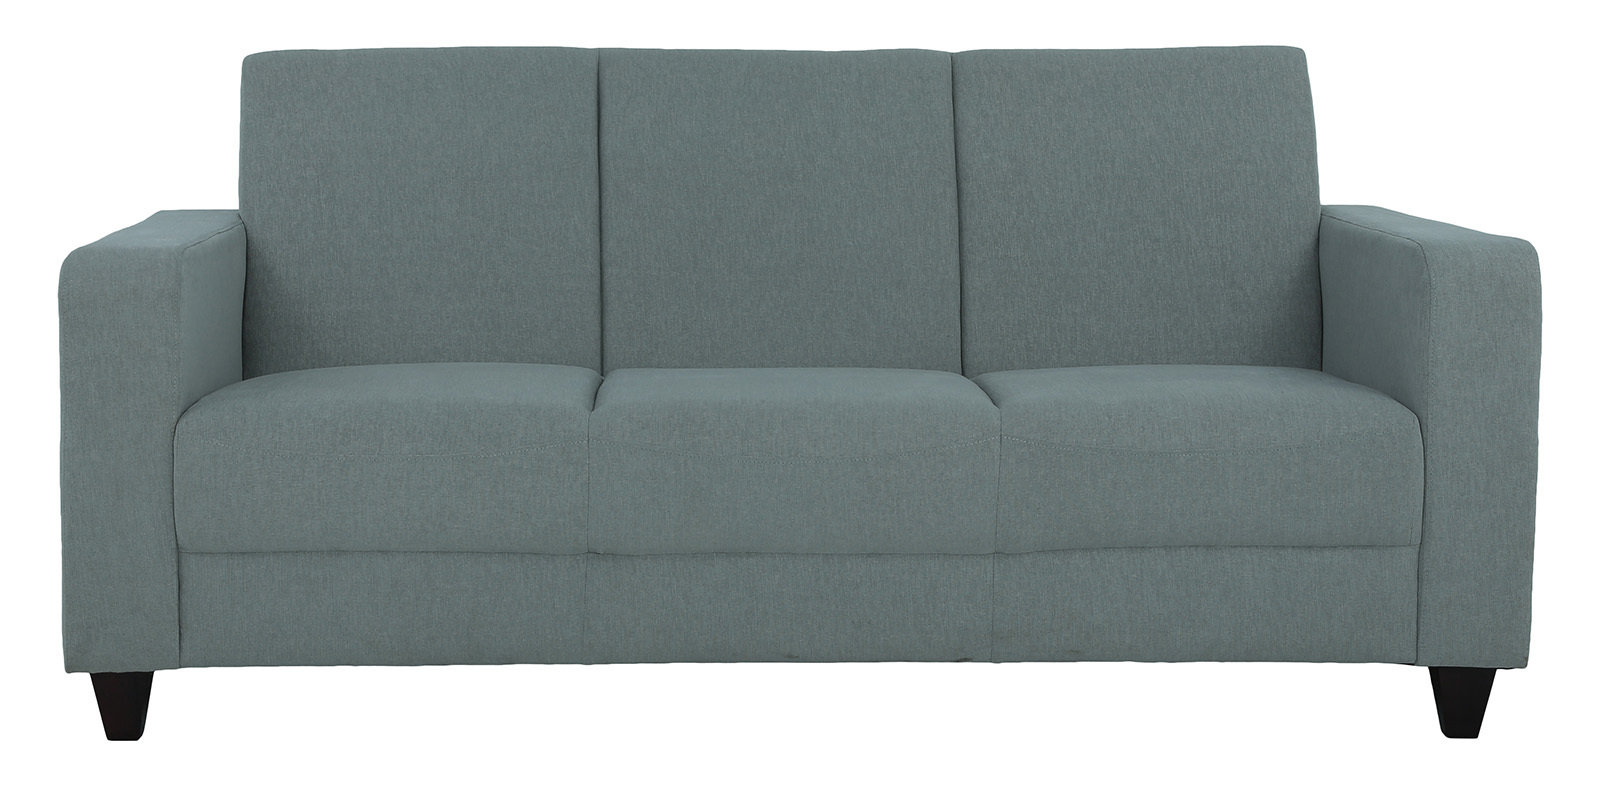Alba Three Seater Sofa in Ash Grey Colour by CasaCraft: (37, 40, 1549, 760)
